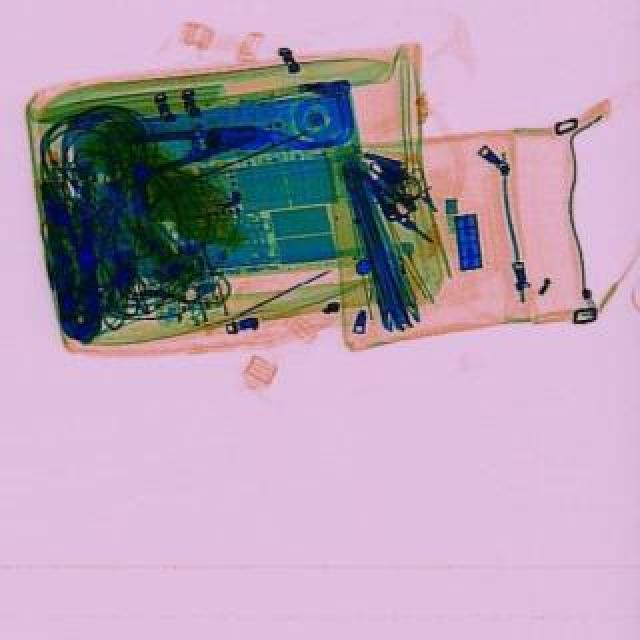wrench: (40, 178, 112, 348), (126, 116, 266, 186)
